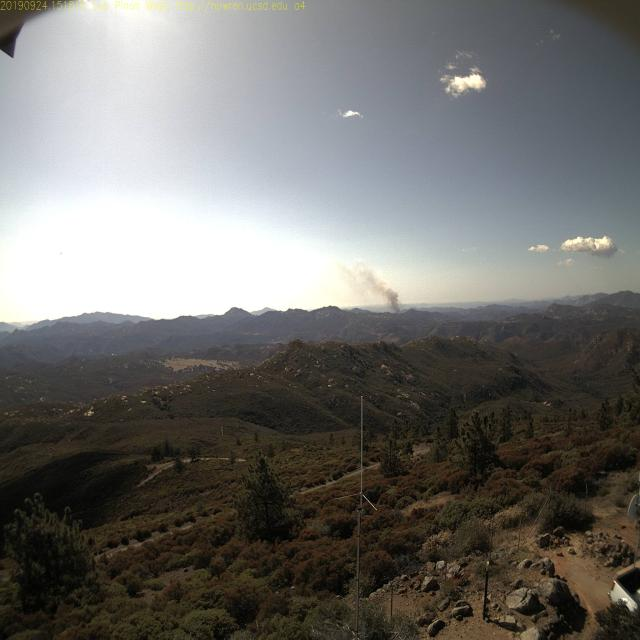smoke: (376, 284, 405, 316)
